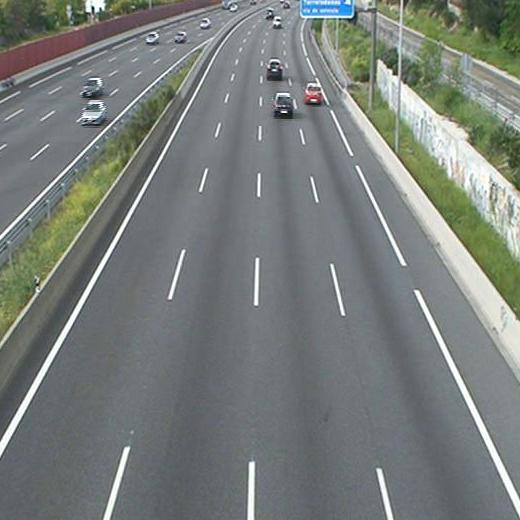car: (273, 93, 294, 115), (305, 84, 323, 103), (266, 60, 282, 77), (272, 17, 283, 28), (265, 9, 273, 16)
